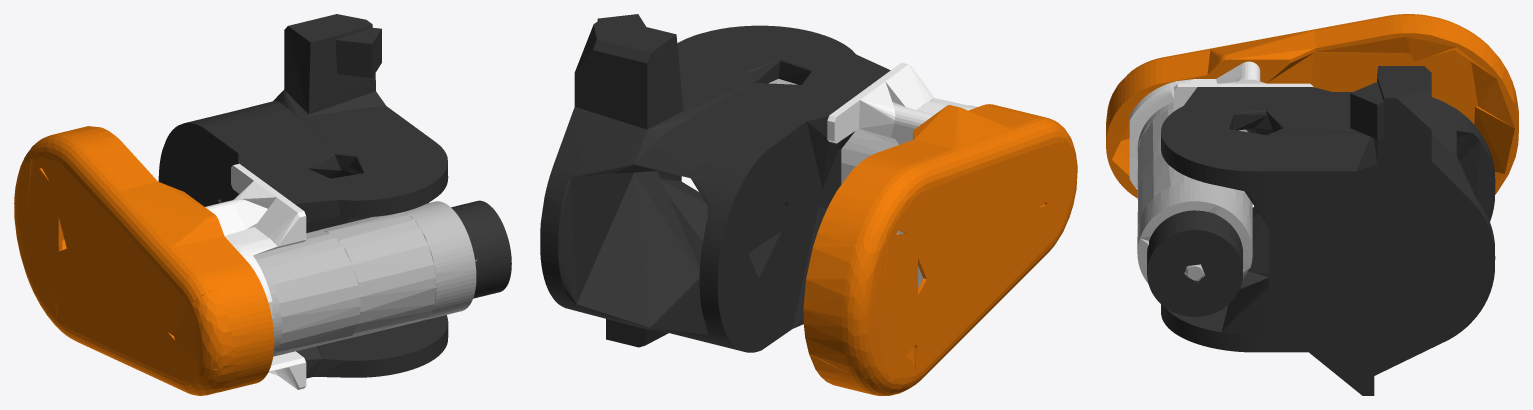
File: RLEG_LINK4_mesh.dae
3 renders of one model, left to right at view 1: azimuth 30°, elevation 25°; view 2: azimuth 150°, elevation 25°; view 3: azimuth 270°, elevation 25°, orthographic. The views are drawn at different scales.
Parts seen in each view (by area): view 1: RLEG_LINK4 (×6); view 2: RLEG_LINK4 (×4); view 3: RLEG_LINK4 (×6).
Boxes of the visible parts, x1,y1,x2,y2 form: RLEG_LINK4 (×6): (14,14,511,395); RLEG_LINK4 (×4): (540,19,1077,395); RLEG_LINK4 (×6): (1106,14,1518,395).
Size of the model in its own units: 0.099 by 0.0855 by 0.1075.
